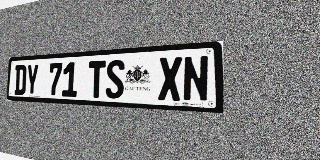1: (62, 62, 78, 97)
7: (48, 63, 63, 96)
D: (14, 65, 27, 95)
N: (183, 55, 209, 102)
S: (105, 59, 125, 99)
T: (88, 60, 106, 98)
X: (158, 56, 182, 101)
Y: (26, 64, 39, 96)
